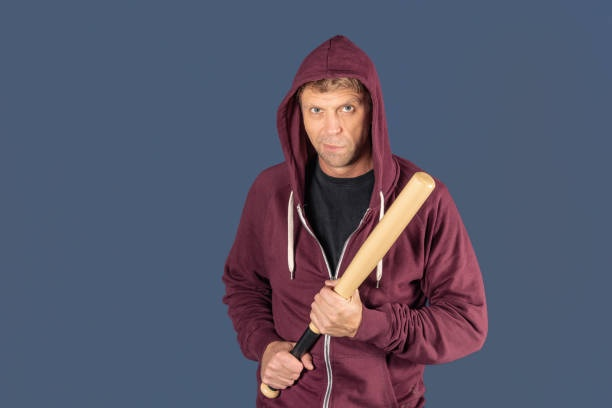bita: (290, 173, 433, 375)
